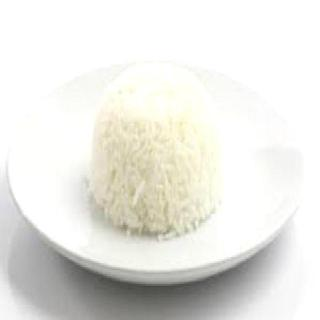Nasi: (85, 61, 225, 243)
